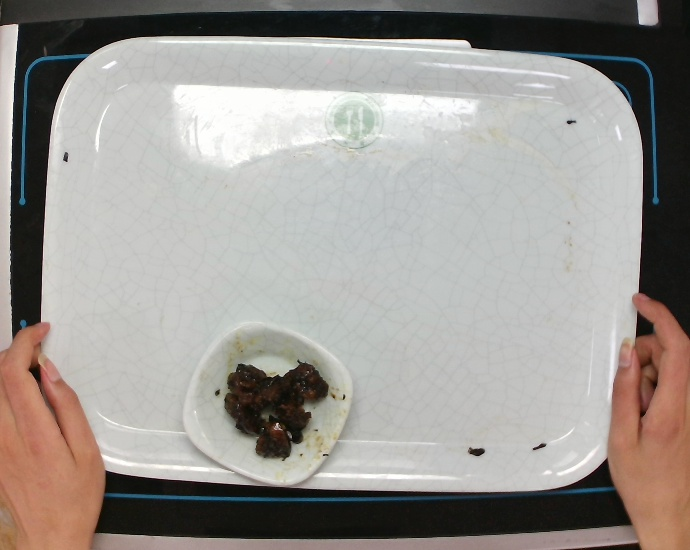JYsf-Si_Fang_Die: (176, 316, 357, 492)
